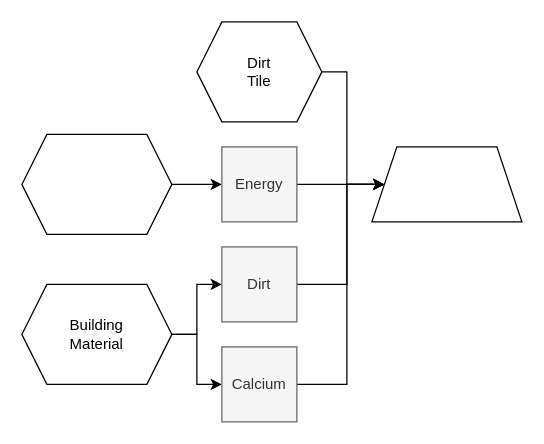
Image size: 544x444. Some labels were removed from this diagram. The shapes that lost their labels are listed below. From the top down, each one's centre as x and y in pixels, then its label:
pixel 96 183: Population Material
pixel 446 184: Mushroom House LVL2 Shed
